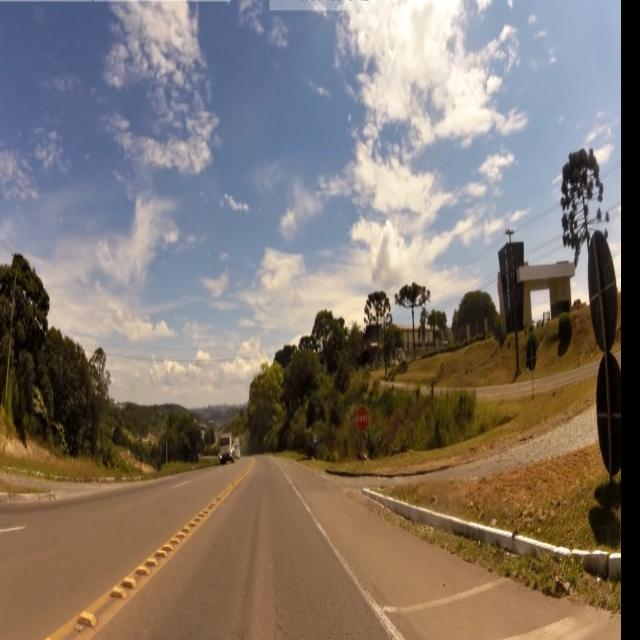R-1: (356, 405, 369, 434)
